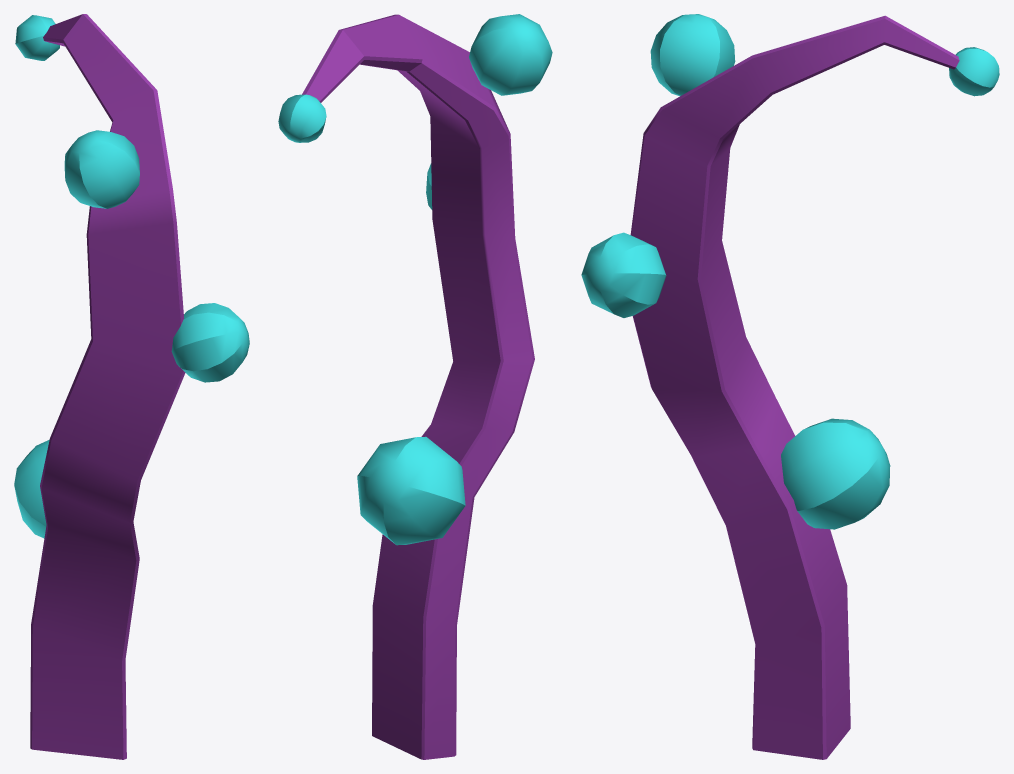
The model's file is Alien_plant02.fbx.
3 views of the same model, side by side, from view 1: azimuth 30°, elevation 25°; view 2: azimuth 150°, elevation 25°; view 3: azimuth 270°, elevation 25° (orthographic). The views are drawn at different scales.
Parts seen in each view (by area): view 1: herbe_05; view 2: herbe_05; view 3: herbe_05.
Boxes of the visible parts, <box> form: herbe_05: <box>14,14,249,759</box>; herbe_05: <box>278,14,552,759</box>; herbe_05: <box>581,14,999,759</box>.
Size of the model in its own units: 0.0885 by 0.4 by 0.2038.
